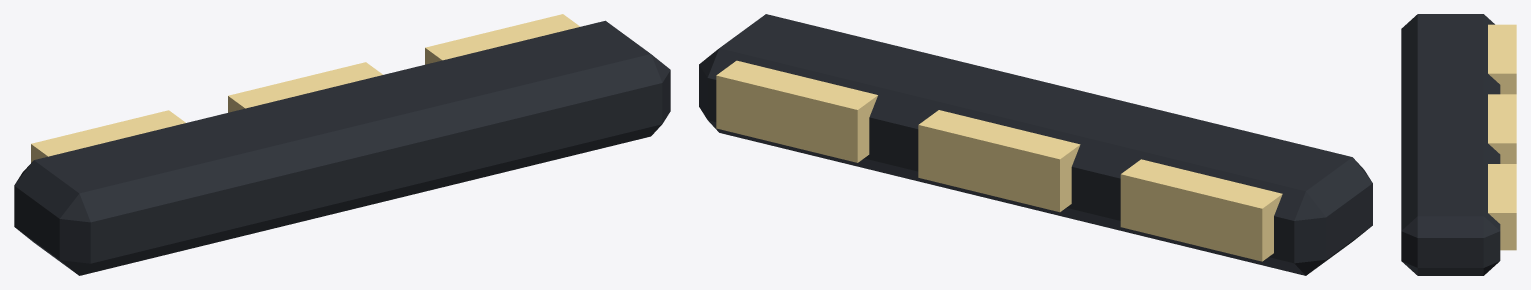
File: att_lightbar.glb
The picture shows the model from 3 angles, left to right: view 1: azimuth 30°, elevation 25°; view 2: azimuth 150°, elevation 25°; view 3: azimuth 270°, elevation 25°; orthographic projection. The views are drawn at different scales.
Visible parts, largest first — view 1: att_lightbar; view 2: att_lightbar; view 3: att_lightbar.
Boxes of the visible parts, bbox=[...] form: att_lightbar: bbox=[14, 14, 670, 275]; att_lightbar: bbox=[699, 14, 1372, 275]; att_lightbar: bbox=[1401, 14, 1516, 275].
Size of the model in its own units: 0.62 by 0.08 by 0.14.
Materials: 1 (1 with a texture image).
